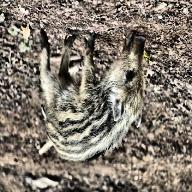boar: (36, 26, 150, 163)
